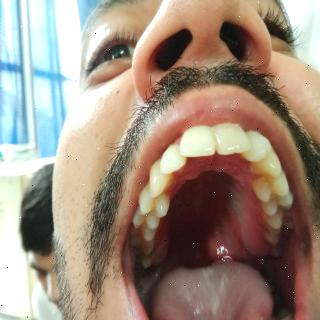UL1BC_healthy: (252, 174, 288, 201)
UL1M_healthy: (265, 213, 294, 235)
UL2BC_healthy: (260, 195, 292, 216)
ULCI_healthy: (215, 123, 251, 155)
ULC_healthy: (251, 148, 281, 176)
ULLI_healthy: (243, 131, 272, 162)
UR1BC_healthy: (138, 184, 169, 217)
UR1M_healthy: (129, 225, 155, 241)
UR2BC_healthy: (133, 209, 160, 229)
URCI_healthy: (180, 126, 214, 157)
URC_healthy: (149, 159, 174, 199)
URLI_healthy: (160, 138, 186, 174)
